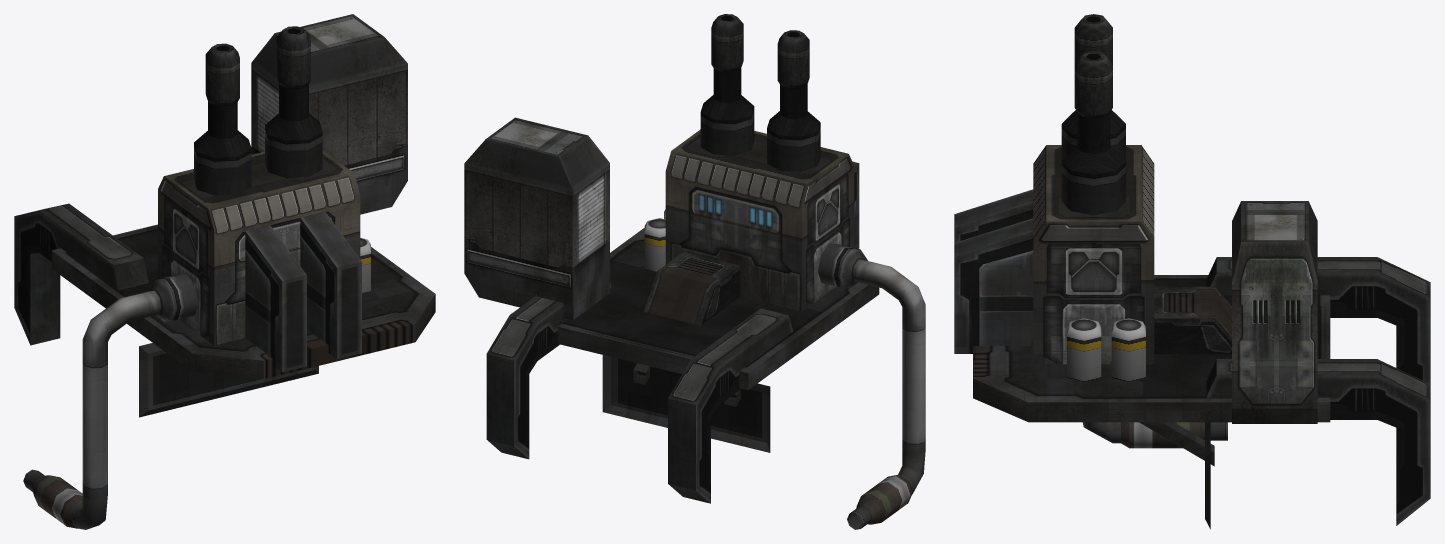
File: ledge_building1.fbx
3 views of the same model, side by side, from view 1: azimuth 30°, elevation 25°; view 2: azimuth 150°, elevation 25°; view 3: azimuth 270°, elevation 25° (orthographic). The views are drawn at different scales.
Visible parts, largest first — view 1: polySurface1; view 2: polySurface1; view 3: polySurface1.
Boxes of the visible parts, box(x1,y1,x2,y2) form: polySurface1: box(14, 14, 435, 529); polySurface1: box(464, 14, 925, 529); polySurface1: box(954, 14, 1430, 529).
Bounding box in the file's own units: 8.08 × 9.06 × 7.89.
1 material, 1 textured.
